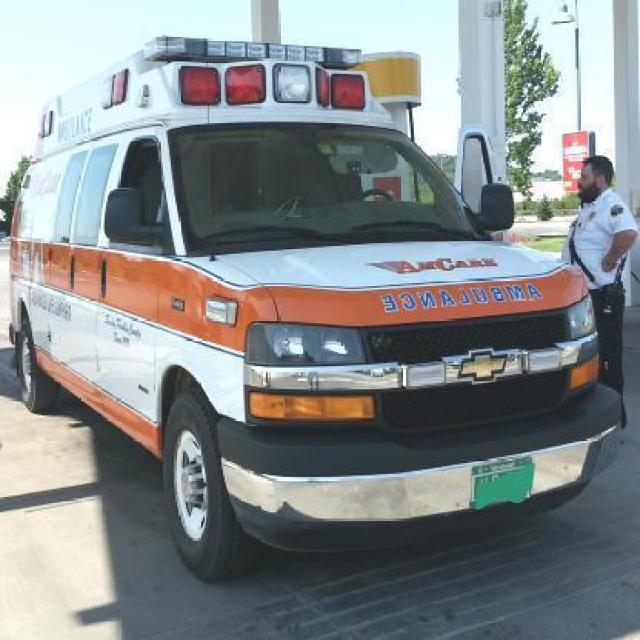Ambulance: (3, 27, 622, 549)
